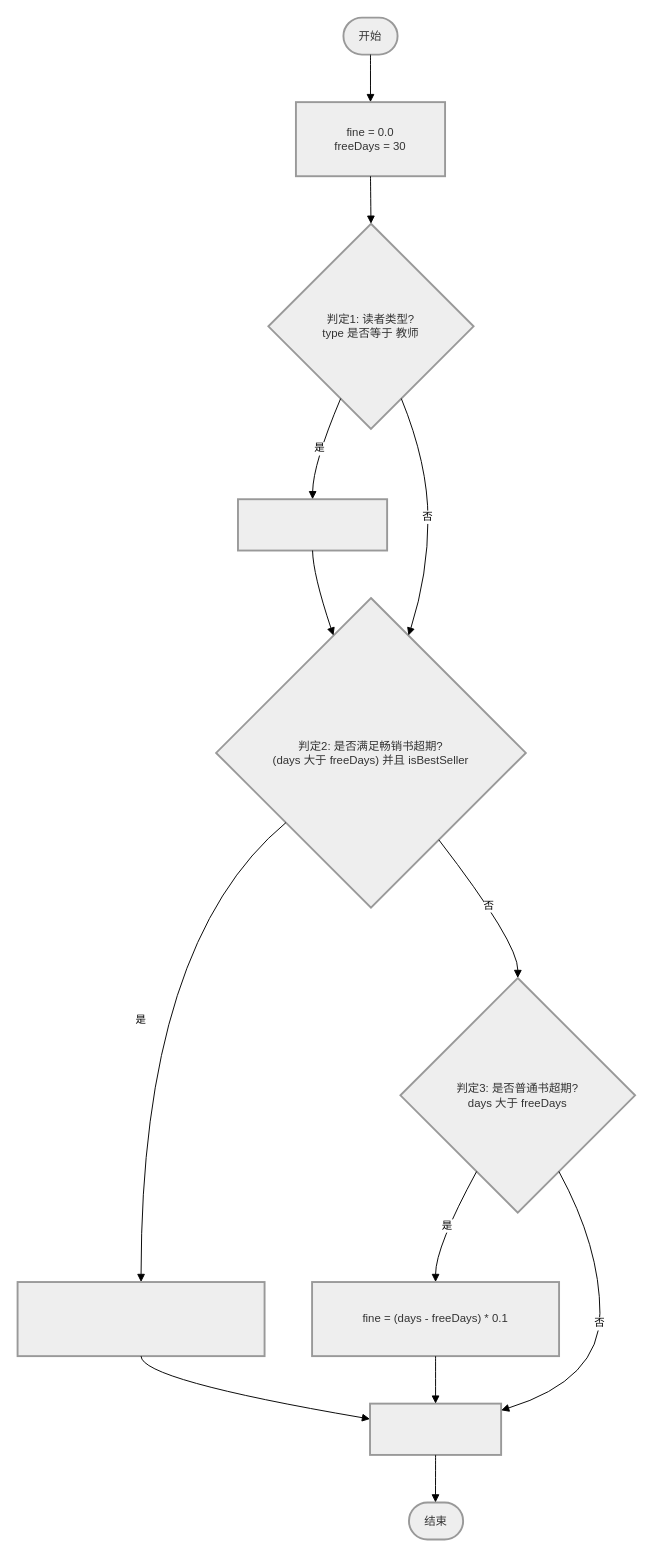
This 652x1556 diagram has some shape labels left out. The shapes that lost their labels are listed below. From the top down, each one's centre as x and y in pixels, then its label:
point (312, 524): freeDays = 60
point (140, 1319): fine = (days - freeDays) * 0.2
point (435, 1428): return fine
